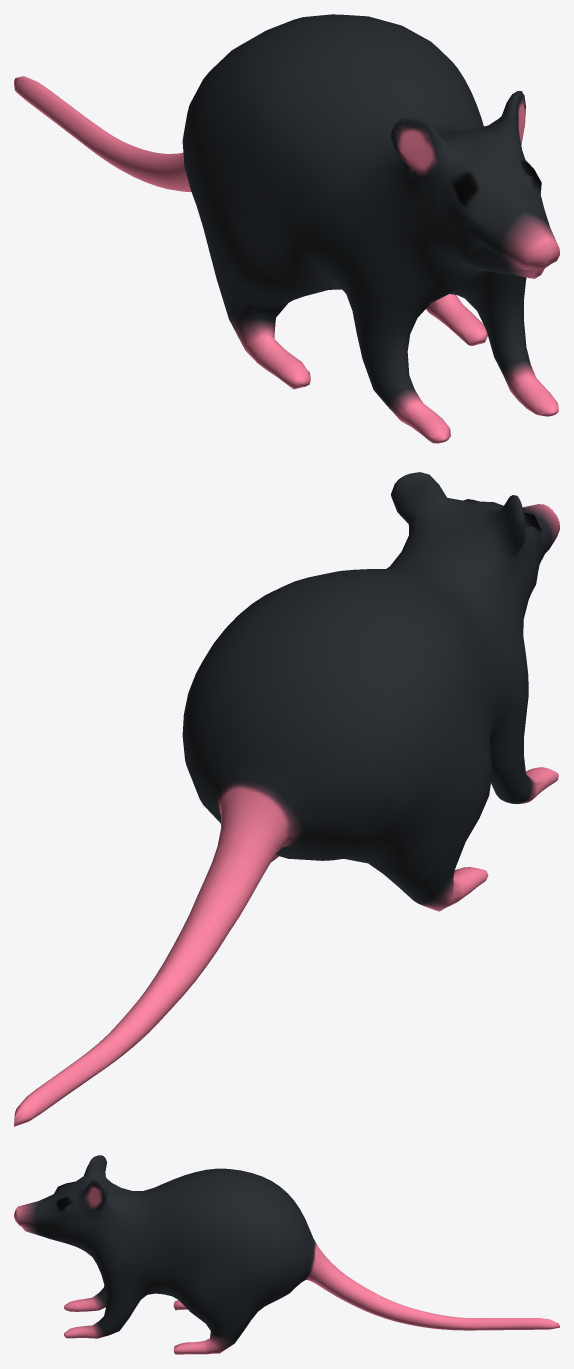
Rendered from Rat.fbx.
3 renders of one model, top to bottom at view 1: azimuth 30°, elevation 25°; view 2: azimuth 150°, elevation 25°; view 3: azimuth 270°, elevation 25°, orthographic. The views are drawn at different scales.
Parts seen in each view (by area): view 1: Rat; view 2: Rat; view 3: Rat.
Boxes of the visible parts, x1=… form: Rat: x1=14, y1=14, x2=559, y2=443; Rat: x1=14, y1=472, x2=559, y2=1126; Rat: x1=14, y1=1155, x2=559, y2=1354.
Bounding box in the file's own units: 3.17 × 3.77 × 11.5.
